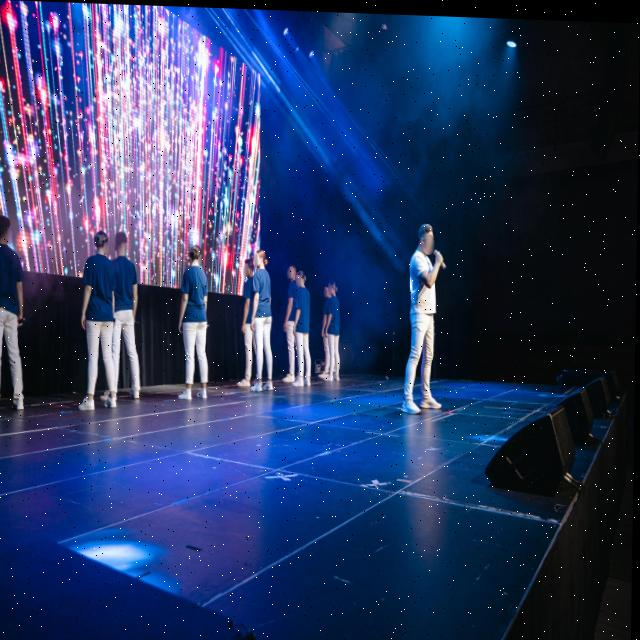Person: (76, 225, 124, 413), (402, 215, 446, 416), (106, 225, 148, 408), (174, 239, 217, 404), (0, 212, 29, 427), (251, 244, 277, 399), (240, 255, 265, 394), (293, 268, 315, 397), (325, 278, 347, 382), (283, 260, 300, 385), (322, 283, 337, 380)
